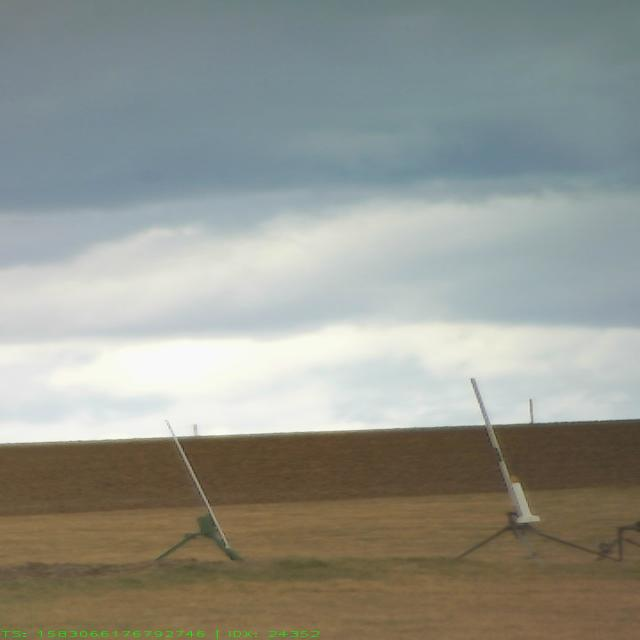Rocket: (510, 475, 542, 525)
